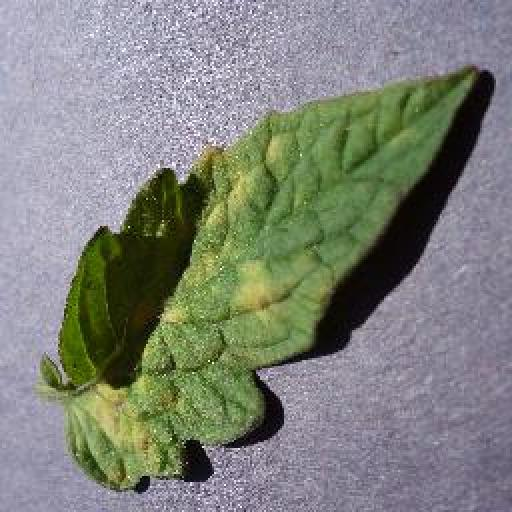disease_tomato: (59, 64, 482, 495)
